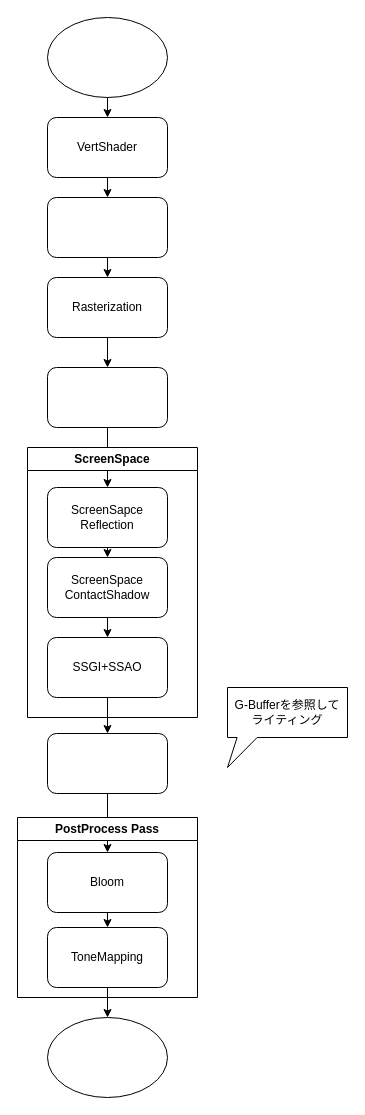
Some shapes in this 365 by 1115 pixel diagram are drawn without their labels. Each missing label, with the centre of its shape:
DrawCall: (x=107, y=57)
End: (x=107, y=1057)
FragmentShader: (x=107, y=397)
LightingShader: (x=107, y=763)
Tessellation: (x=107, y=227)
